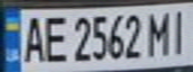2: (69, 11, 93, 62), (124, 10, 148, 60)
5: (90, 11, 112, 61)
6: (106, 11, 127, 61)
A: (18, 12, 48, 63)
E: (39, 12, 69, 63)
I: (166, 6, 193, 55)
M: (145, 8, 175, 57)
